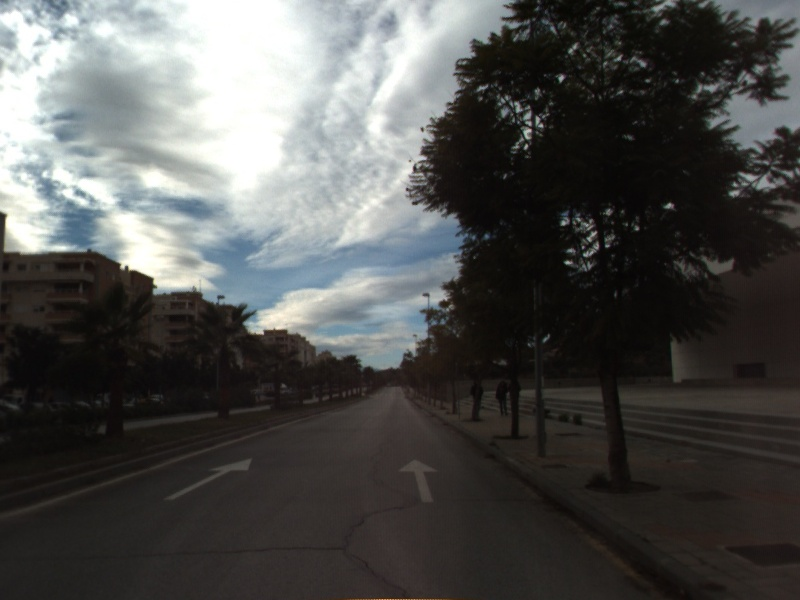STRAIGHT: (162, 456, 255, 502), (396, 457, 441, 504)
